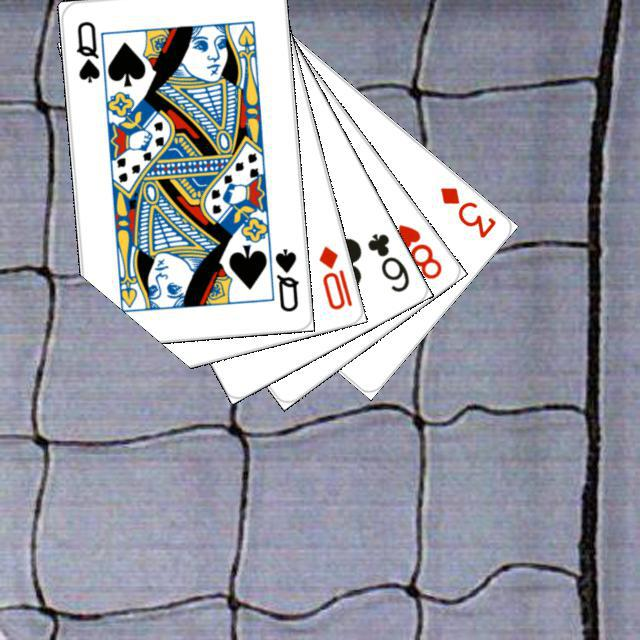10d: (313, 241, 354, 312)
3d: (435, 181, 498, 240)
6c: (362, 228, 411, 294)
8h: (392, 219, 444, 281)
Qs: (270, 244, 301, 313), (71, 16, 102, 85)
